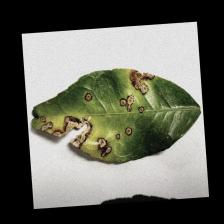canker: (24, 67, 167, 161)
